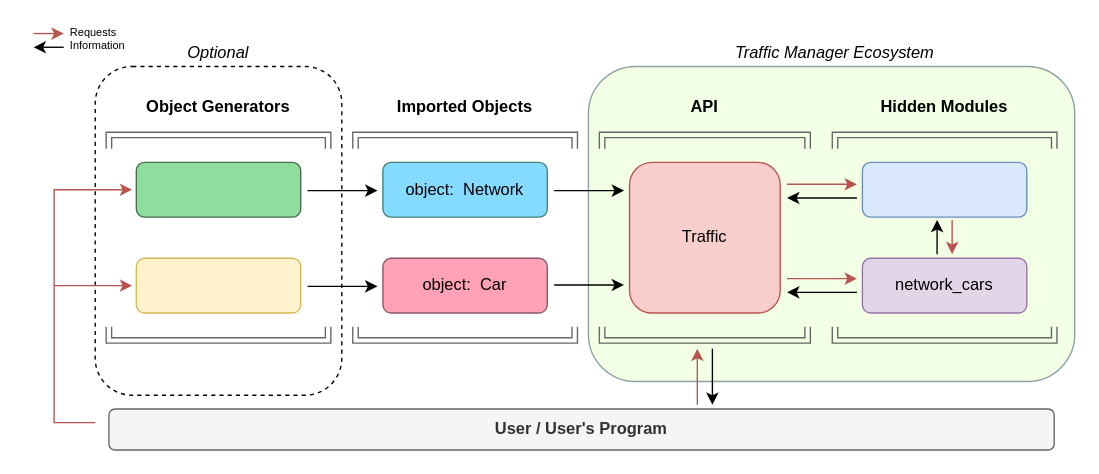
Some shapes in this 1099 by 474 pixel diagram are drawn without their labels. The shapes that lost their labels are listed below. From the top down, each one's centre as x and y in pixels, then its label:
(218,189): UnderlyingNetwork- Generator
(944,189): traffic_network
(218,285): CarGenerator **
